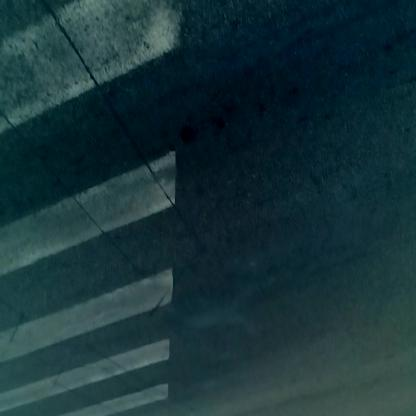crosswalk: (1, 2, 188, 410)
